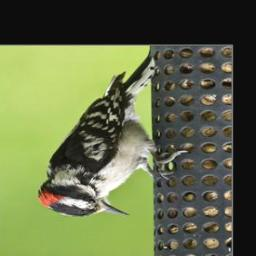Woodpecker: (39, 56, 183, 220)
